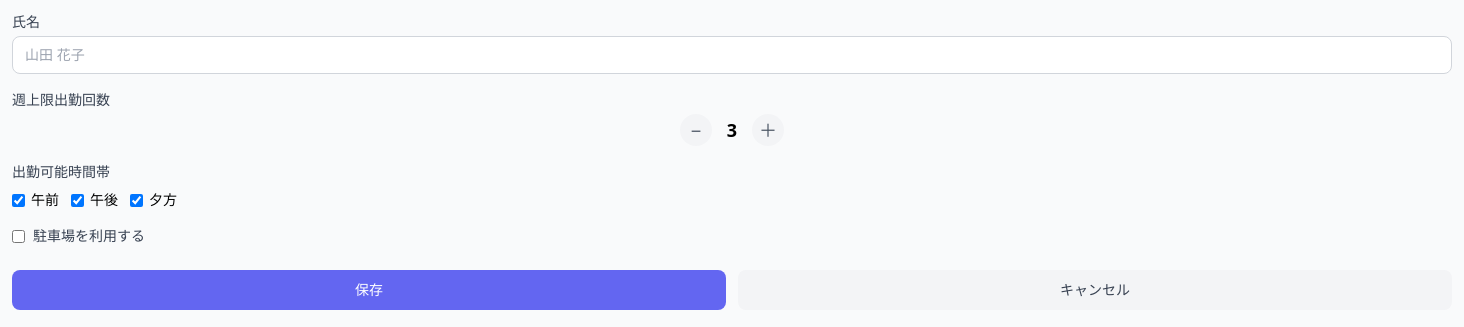
Scenario: StaffForm › 週上限回数がmin値（1）のとき−ボタンが無効化され、値を減らせない
Note: デフォルト値は3なので、1になるまで−ボタンを押す
Click the button named "減らす".
click(696, 130)  # box [680,114,712,146]
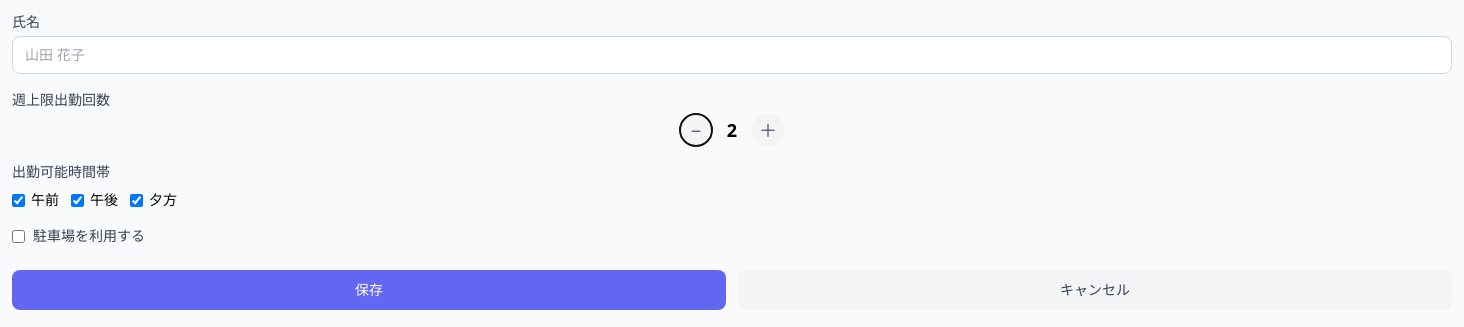
Click the button named "減らす".
click(696, 130)  # box [680,114,712,146]
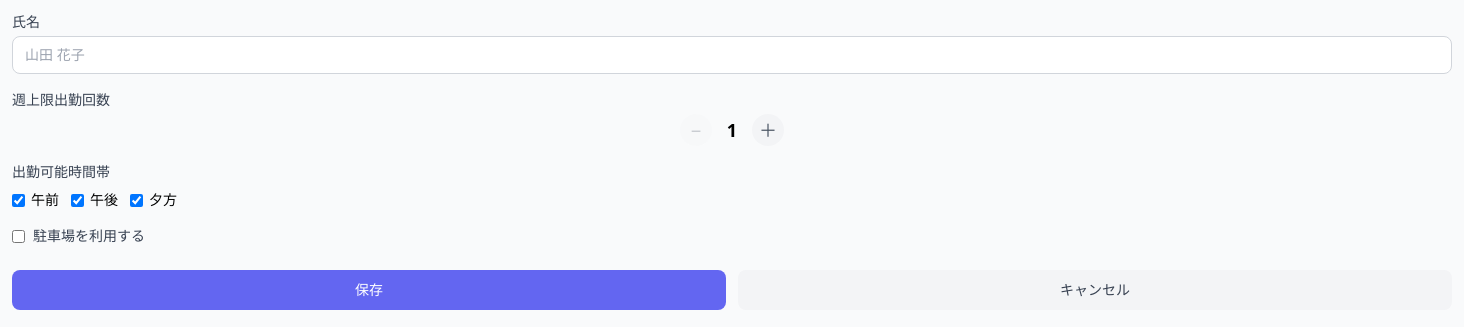
Expected: the button named "減らす" is disabled, [680,114,712,146]
